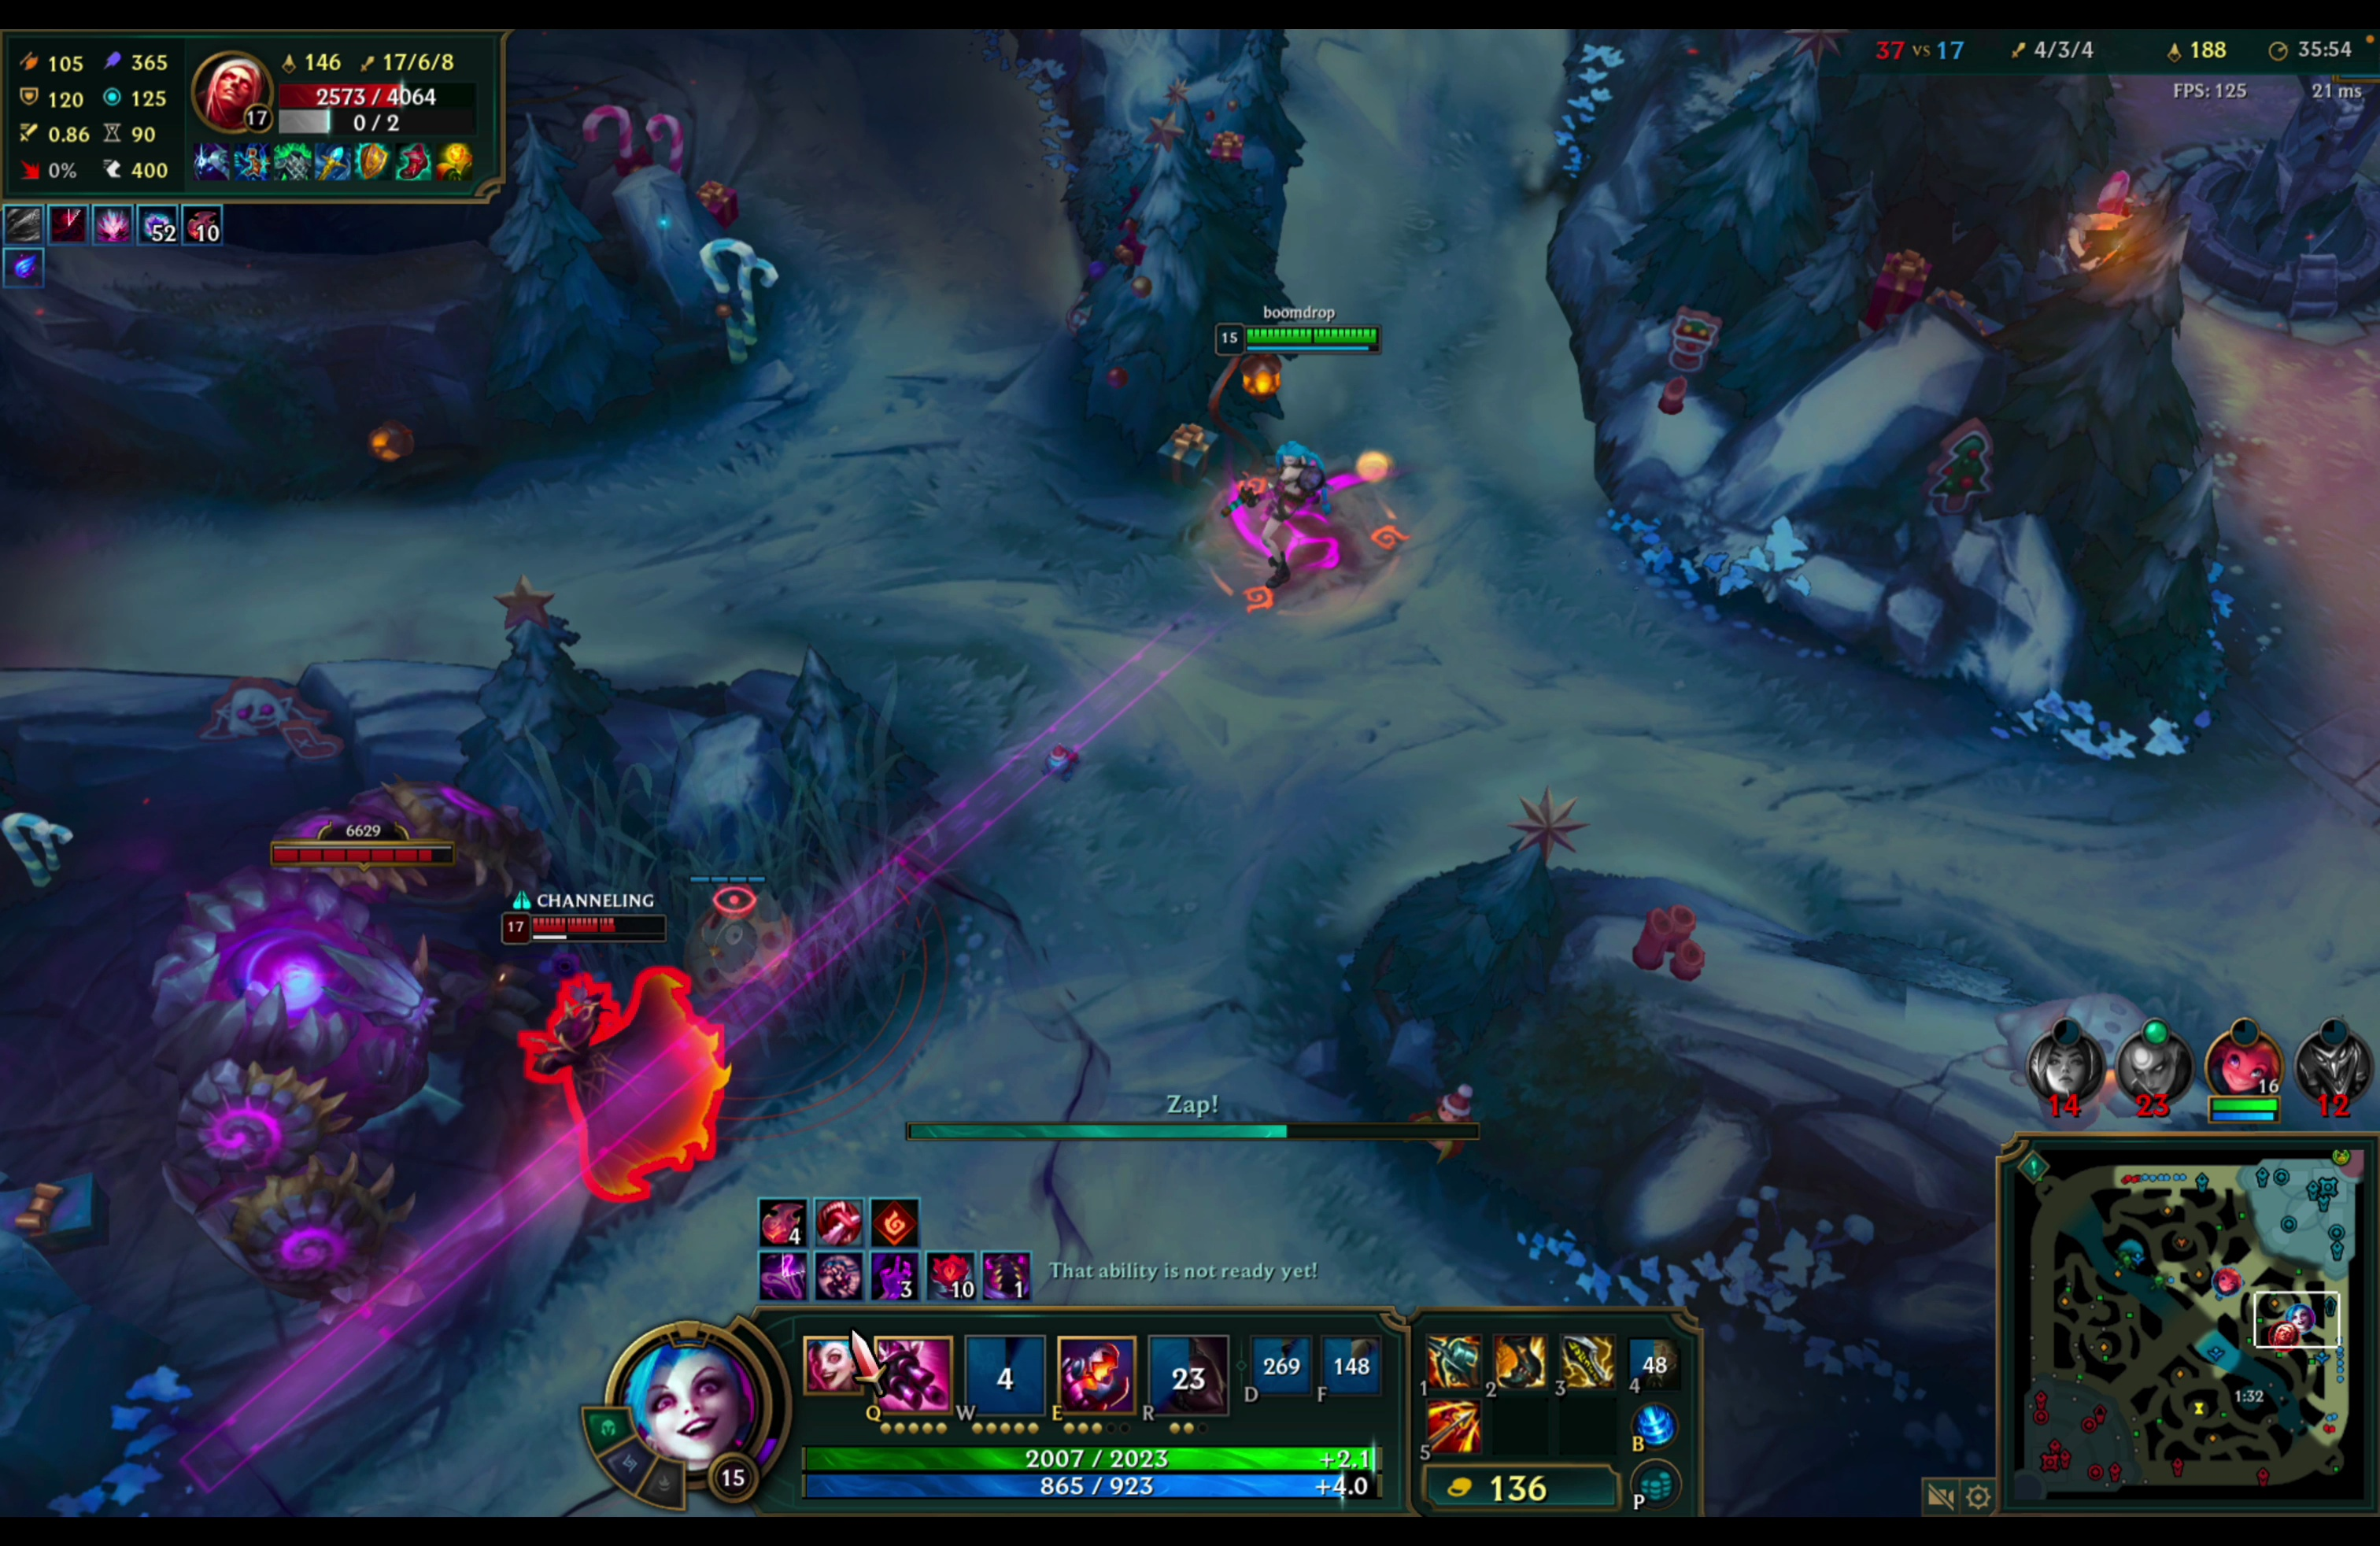JINX_W_PROJECTILE: (1211, 293, 1433, 637)
